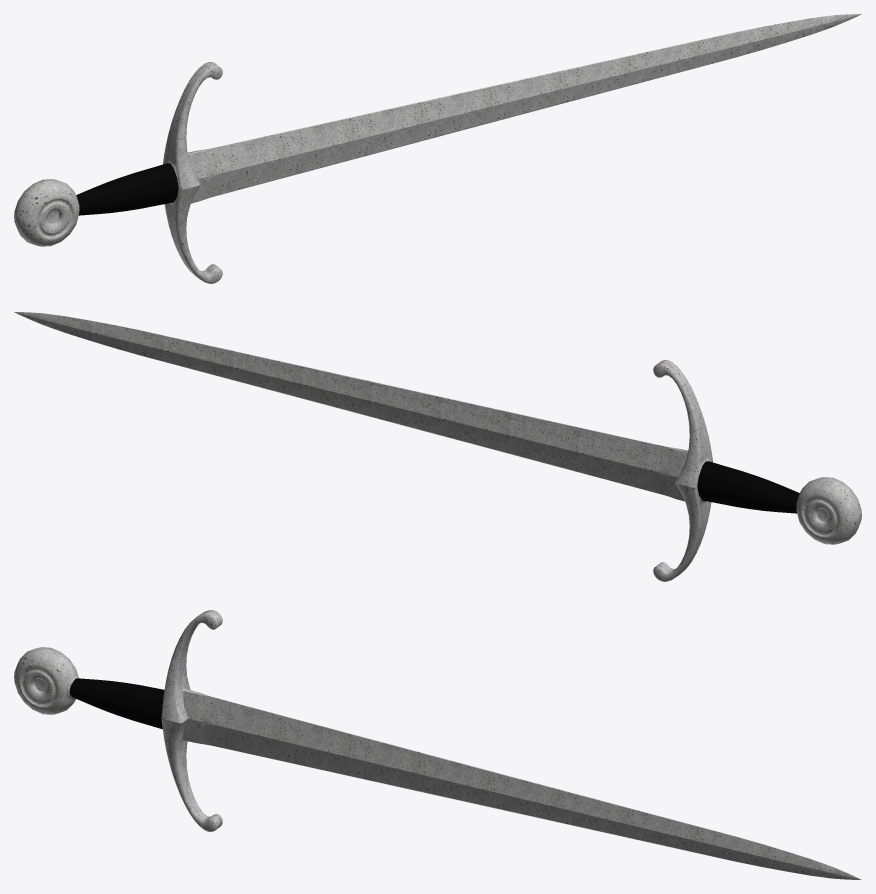
The model's file is medieval_sword.glb.
3 views of the same model, one above another, from view 1: azimuth 30°, elevation 25°; view 2: azimuth 150°, elevation 25°; view 3: azimuth 330°, elevation 25° (orthographic).
Visible parts, largest first — view 1: medieval sword; view 2: medieval sword; view 3: medieval sword.
Boxes of the visible parts, x1,y1,x2,y2 form: medieval sword: (14,14,861,283); medieval sword: (14,312,861,581); medieval sword: (14,610,861,879).
Size of the model in its own units: 2.81 by 0.6914 by 0.1178.
2 materials, 1 textured.
